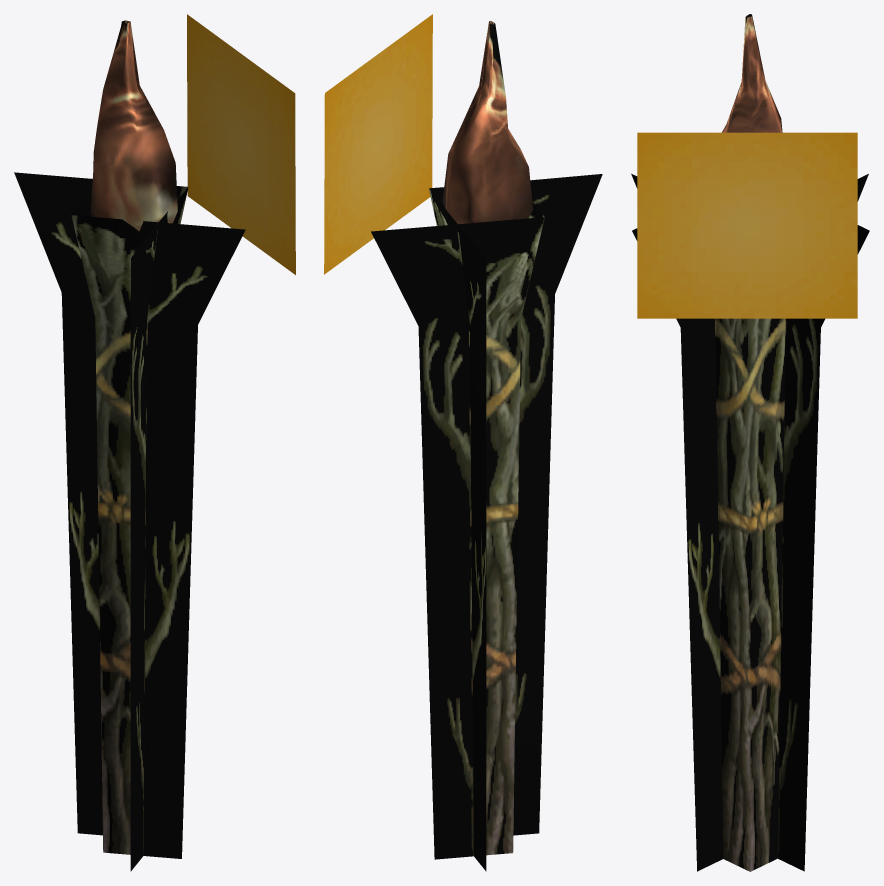
File: northrendgeneraltorch02.obj
3 renders of one model, left to right at view 1: azimuth 30°, elevation 25°; view 2: azimuth 150°, elevation 25°; view 3: azimuth 270°, elevation 25°, orthographic. The views are drawn at different scales.
Parts seen in each view (by area): view 1: Geoset3, Geoset2, Geoset1; view 2: Geoset3, Geoset2, Geoset1; view 3: Geoset3, Geoset2, Geoset1.
Part boxes in pixels (x1=…): Geoset3: x1=14, y1=172, x2=245, y2=871; Geoset2: x1=187, y1=14, x2=295, y2=274; Geoset1: x1=90, y1=20, x2=177, y2=230; Geoset3: x1=371, y1=174, x2=602, y2=871; Geoset2: x1=324, y1=14, x2=432, y2=274; Geoset1: x1=442, y1=21, x2=532, y2=224; Geoset3: x1=631, y1=173, x2=869, y2=871; Geoset2: x1=637, y1=132, x2=857, y2=318; Geoset1: x1=722, y1=14, x2=782, y2=132.
Size of the model in its own units: 0.5684 by 2.66 by 0.6848.
Materials: 4 (4 with a texture image).
